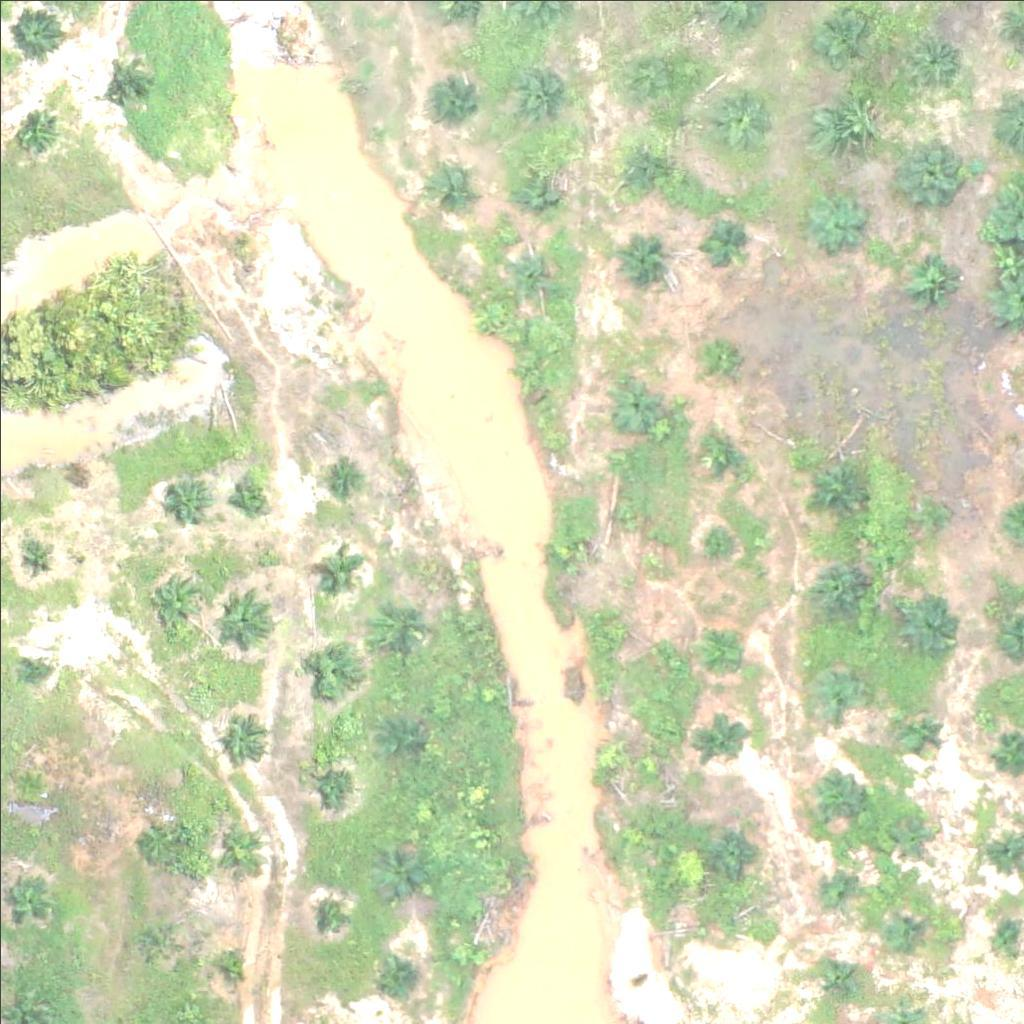Kelapa_Sawit: (625, 34, 688, 97), (510, 58, 573, 121), (900, 594, 963, 657), (902, 241, 965, 304), (898, 141, 961, 204), (803, 658, 866, 721), (145, 569, 208, 632), (815, 2, 877, 65), (704, 87, 766, 150), (805, 189, 867, 252), (809, 89, 871, 152), (212, 587, 274, 650), (809, 563, 859, 614), (810, 460, 860, 511), (128, 816, 178, 867), (699, 428, 749, 479), (215, 822, 265, 873), (808, 773, 858, 823), (911, 33, 961, 83), (422, 72, 472, 122), (615, 241, 665, 291), (697, 216, 747, 266), (508, 246, 558, 296), (609, 377, 659, 427), (512, 161, 562, 211), (426, 162, 476, 212), (13, 4, 63, 54), (10, 108, 60, 158), (101, 52, 151, 102), (618, 137, 668, 187), (307, 752, 357, 802), (309, 643, 359, 693), (220, 710, 270, 760), (160, 474, 210, 524), (695, 709, 745, 759), (697, 619, 747, 669), (373, 844, 423, 894), (704, 824, 754, 874), (371, 593, 421, 643), (512, 351, 550, 389), (700, 340, 738, 378), (322, 550, 360, 588), (321, 459, 359, 497), (234, 476, 272, 514), (608, 499, 646, 537), (598, 612, 636, 650), (592, 737, 630, 775), (381, 955, 419, 993), (982, 919, 1020, 957), (814, 877, 852, 915), (814, 964, 852, 1002), (16, 539, 53, 577), (545, 537, 582, 575), (11, 764, 49, 801), (137, 919, 175, 956), (382, 717, 419, 755), (882, 910, 919, 948), (892, 814, 929, 852), (911, 497, 948, 535), (699, 519, 736, 556), (901, 711, 938, 748), (22, 655, 47, 680), (221, 952, 246, 977), (315, 901, 340, 926)
